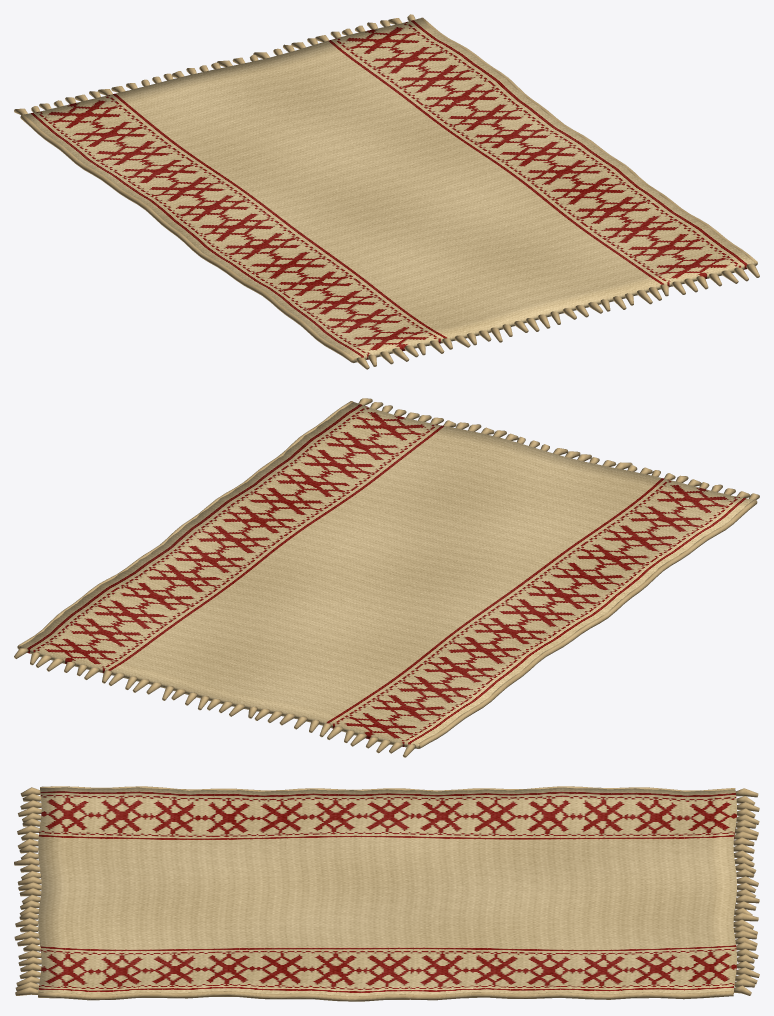
File: embroidered-rug.glb
The picture shows the model from 3 angles, top to bottom: view 1: azimuth 30°, elevation 25°; view 2: azimuth 150°, elevation 25°; view 3: azimuth 270°, elevation 25°; orthographic projection. The views are drawn at different scales.
Parts seen in each view (by area): view 1: Woven ground and red borders, Flax fringe at both short ends, Bound long edge, Bound long edge.001; view 2: Woven ground and red borders, Flax fringe at both short ends, Bound long edge, Bound long edge.001; view 3: Woven ground and red borders, Flax fringe at both short ends, Bound long edge.001, Bound long edge.
Part boxes in pixels (bbox=[...]): Woven ground and red borders: bbox=[24, 18, 755, 362]; Flax fringe at both short ends: bbox=[14, 14, 759, 369]; Bound long edge: bbox=[20, 114, 355, 362]; Bound long edge.001: bbox=[420, 17, 757, 265]; Woven ground and red borders: bbox=[19, 402, 753, 748]; Flax fringe at both short ends: bbox=[14, 398, 759, 757]; Bound long edge: bbox=[417, 499, 757, 748]; Bound long edge.001: bbox=[17, 401, 352, 649]; Woven ground and red borders: bbox=[38, 787, 736, 1001]; Flax fringe at both short ends: bbox=[14, 787, 759, 995]; Bound long edge.001: bbox=[38, 990, 733, 1001]; Bound long edge: bbox=[40, 786, 734, 791].
Size of the model in its own units: 1.08 by 0.0295 by 1.63.
Materials: 2 (2 with a texture image).
